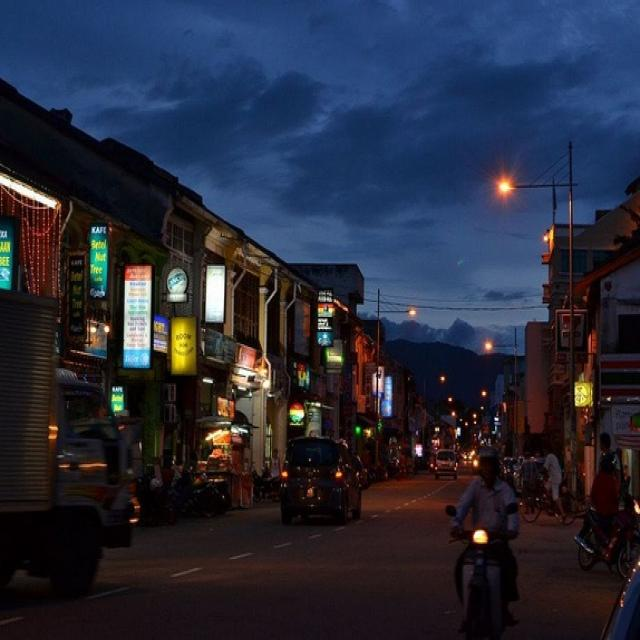Motorbike: (434, 528, 528, 639), (562, 508, 640, 599), (542, 431, 612, 488), (598, 451, 630, 517)
People: (454, 433, 524, 562), (541, 426, 572, 528)
car: (0, 308, 132, 585), (235, 438, 396, 530), (58, 402, 157, 523), (431, 439, 464, 492)
